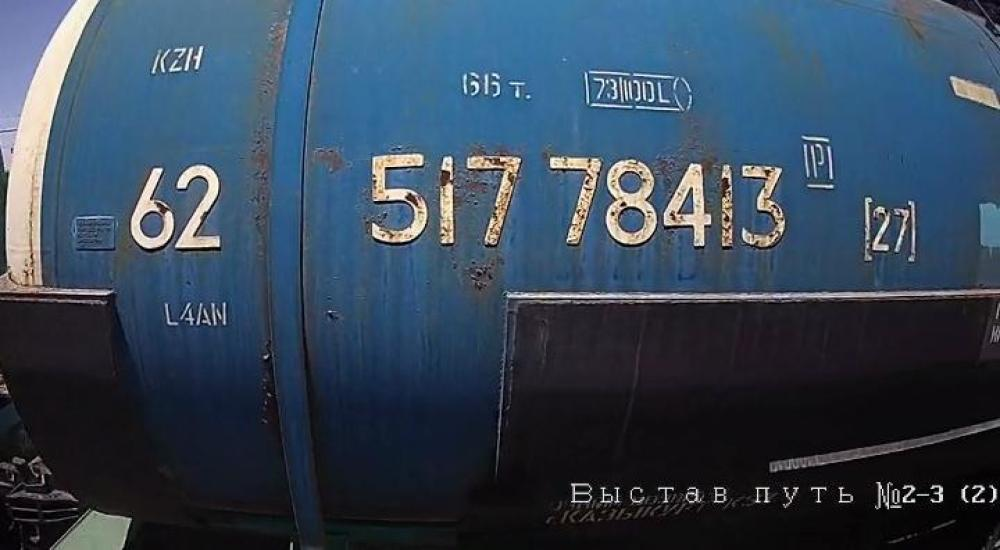Wagon-number: (363, 147, 792, 255)
